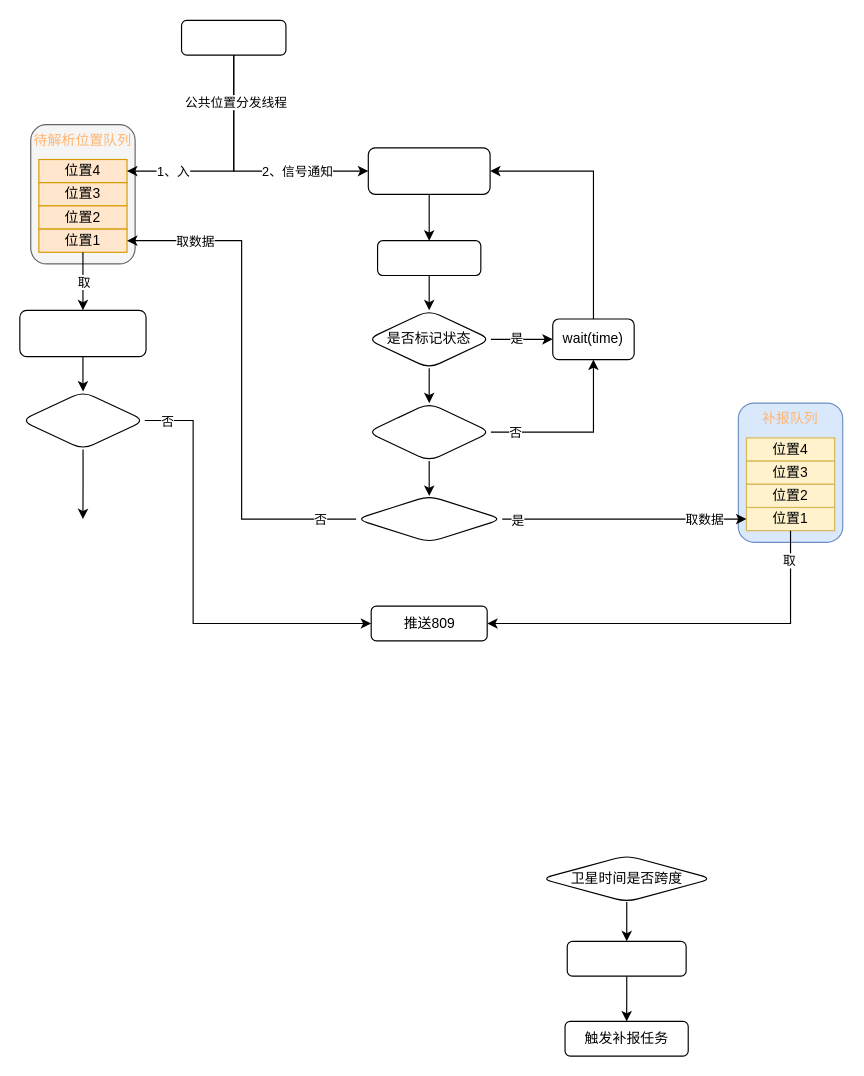
Image size: 864x1076. Some labels were removed from this diagram. The centre of each missing label's shape, as x and y in pixels:
"位置接收" belongs at [233,37].
"位置推送线程" belongs at [428,170].
"位置有效性校验" belongs at [82,333].
"是否809链路顺畅" belongs at [428,431].
"是否卫星跨度" belongs at [82,419].
"线程退出校验" belongs at [428,258].
"补报队列是否有数据" belongs at [428,518].
"车辆标记" belongs at [626,958].
